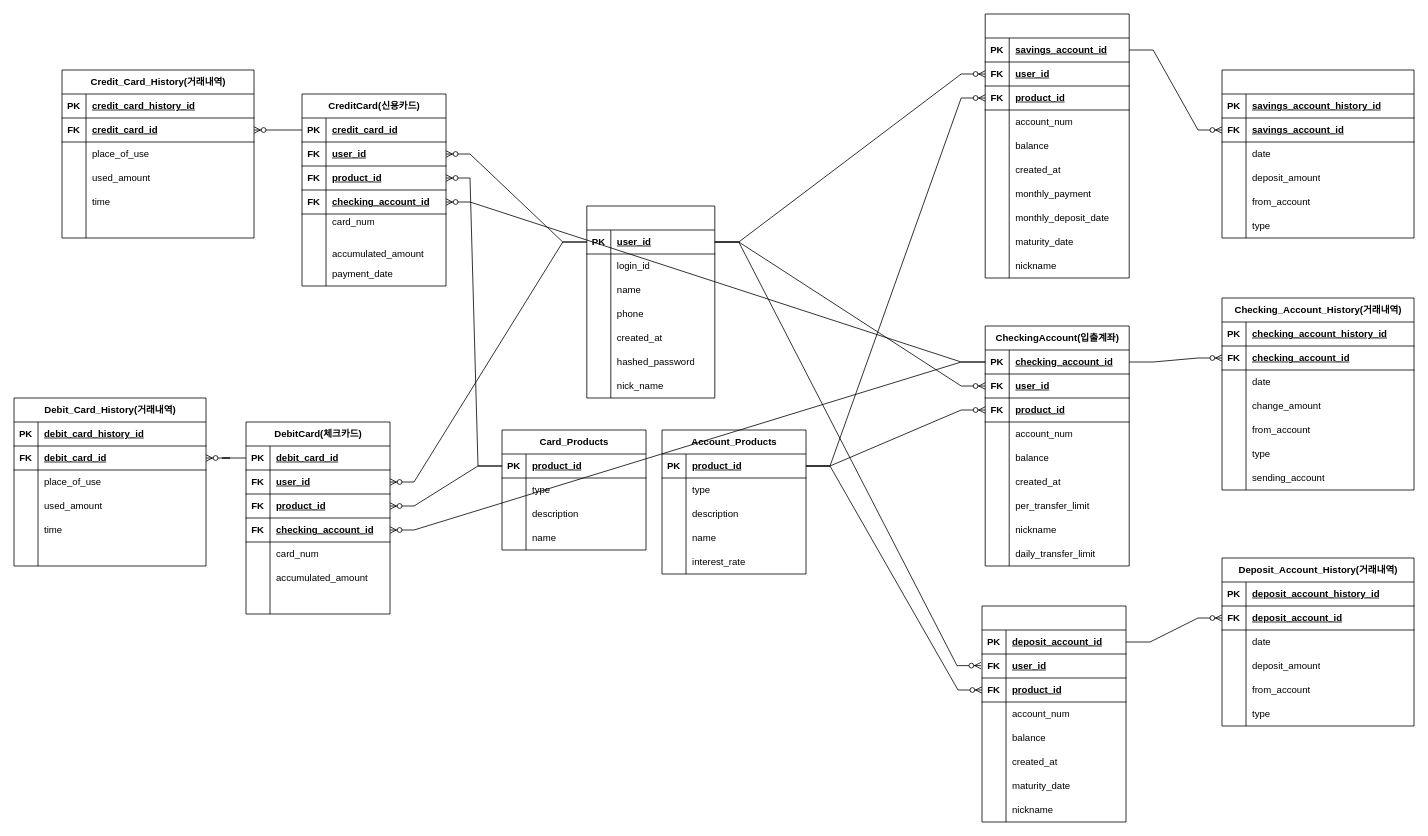
Image size: 1428x836. Some labels were removed from this diagram. Here are the shapes that lost their labels. From the top down, the box of each, then its label:
(984, 13, 1129, 278): SavingsAccount(적금계좌)
(1221, 69, 1414, 238): Savings_Account_History(거래내역)
(586, 205, 715, 398): User(회원)
(981, 605, 1126, 822): DepositAccount(예금계좌)
